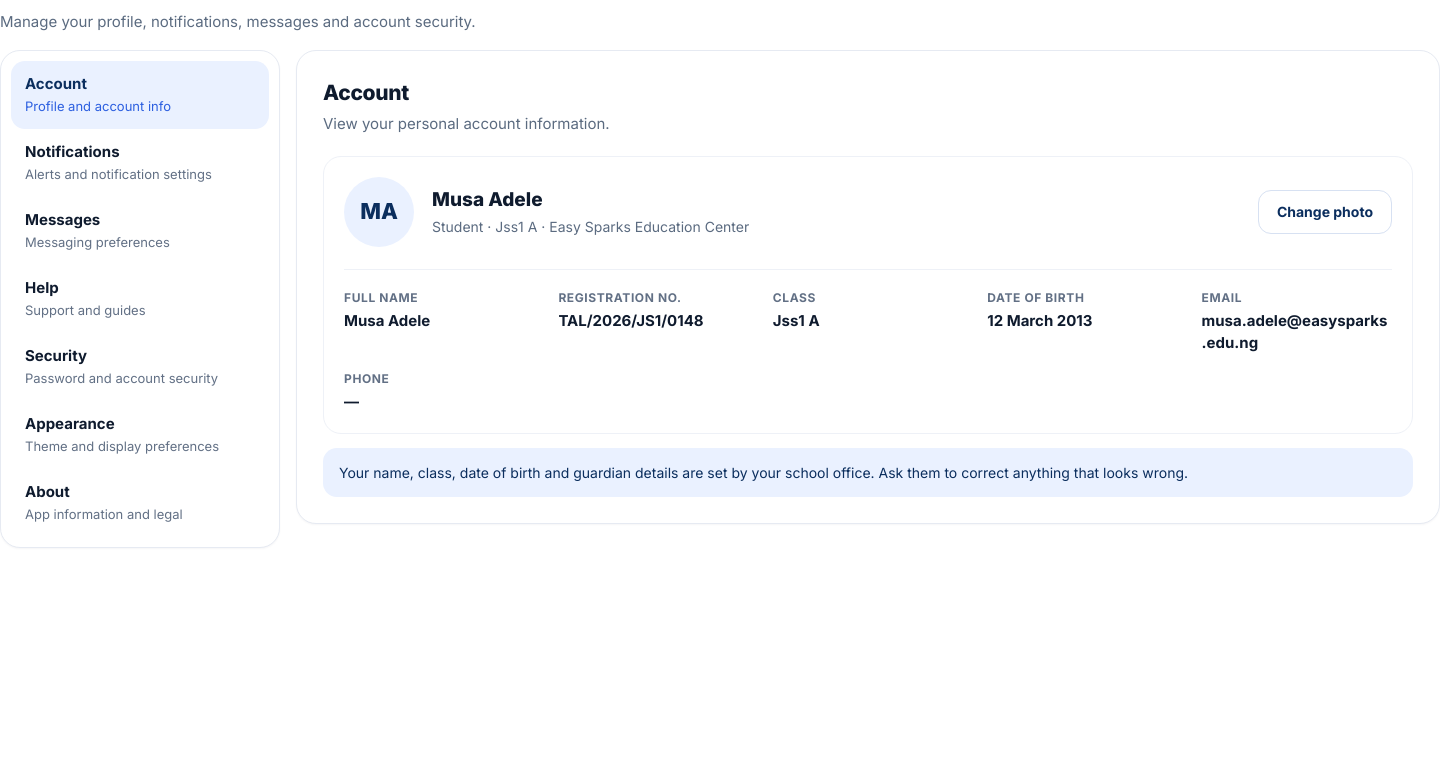
Test: Settings screen › switches panels on click and keeps the tab in ?tab=
Click the tab "Notifications". click: point(140, 162)
box: top-left (11, 128), bottom-right (269, 196)
(page scrolled)
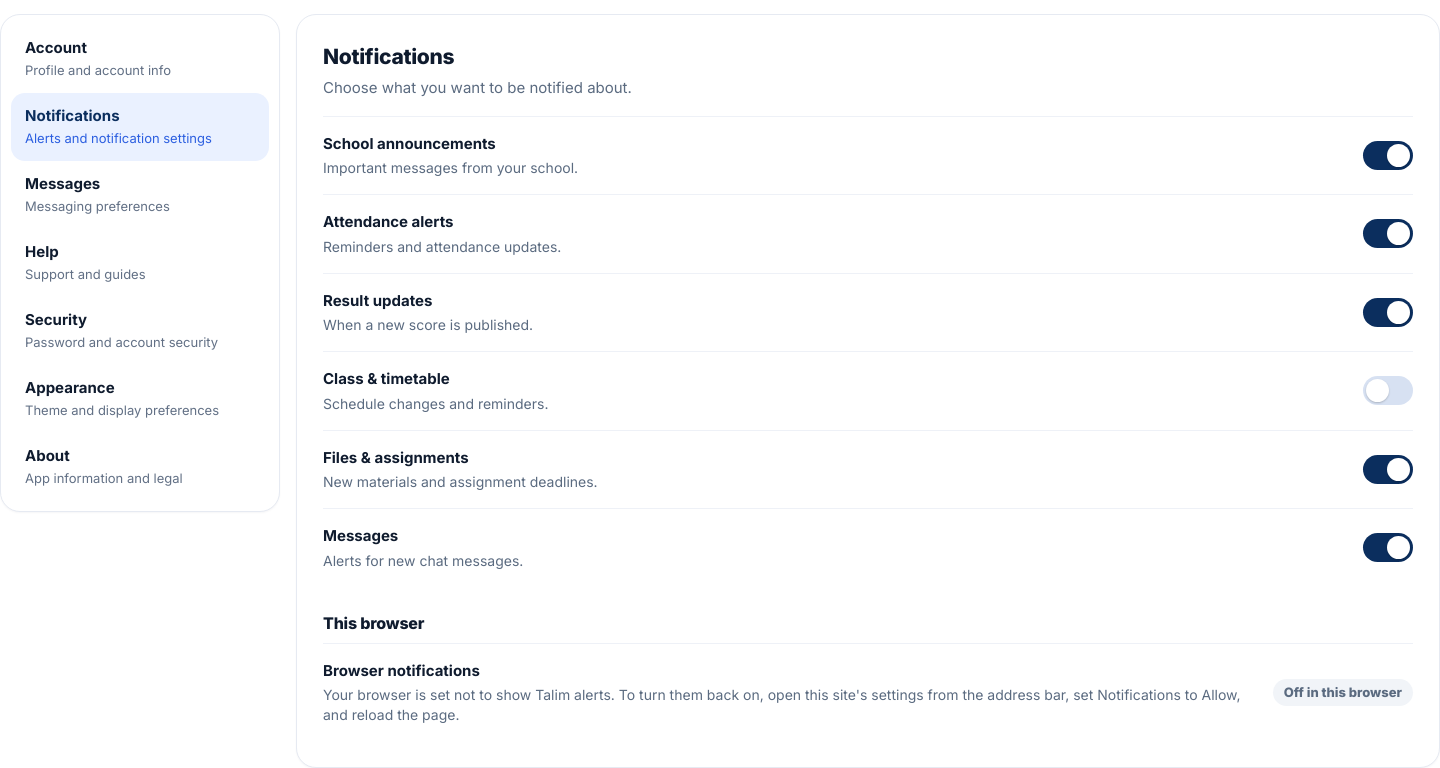
expect the panel "Notifications" is shown: met
